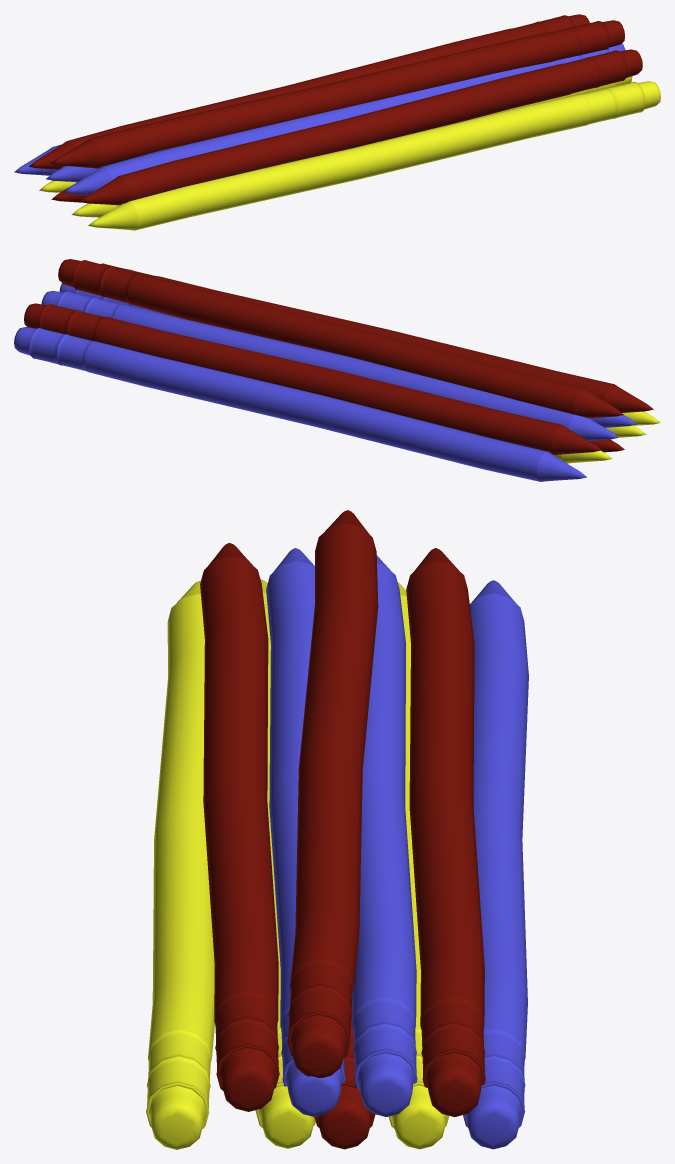
The model's file is pileofpencils_prototype.fbx.
3 views of the same model, one above another, from view 1: azimuth 30°, elevation 25°; view 2: azimuth 150°, elevation 25°; view 3: azimuth 270°, elevation 25° (orthographic). The views are drawn at different scales.
Parts seen in each view (by area): view 1: Cylinder004; view 2: Cylinder004; view 3: Cylinder004.
Boxes of the visible parts, bbox=[...] form: Cylinder004: bbox=[14, 14, 660, 230]; Cylinder004: bbox=[14, 259, 660, 481]; Cylinder004: bbox=[146, 510, 528, 1149].
Size of the model in its own units: 30.92 by 3.38 by 9.1.
